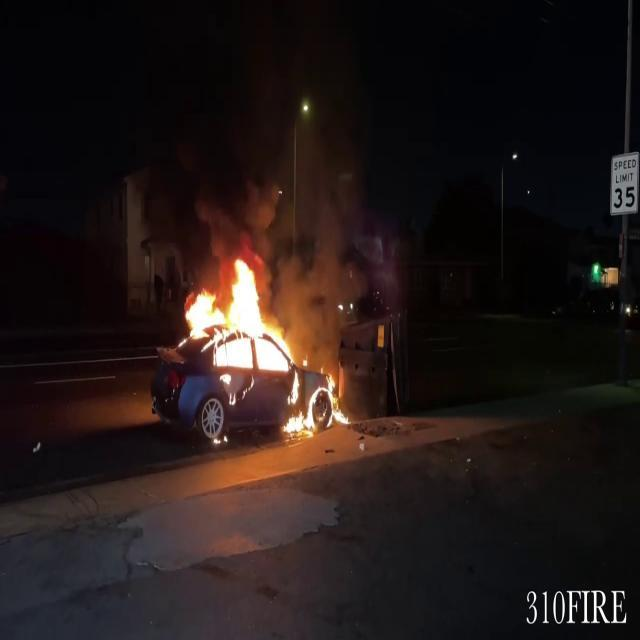Fire: (172, 252, 350, 438)
Smoke: (245, 124, 373, 340)
